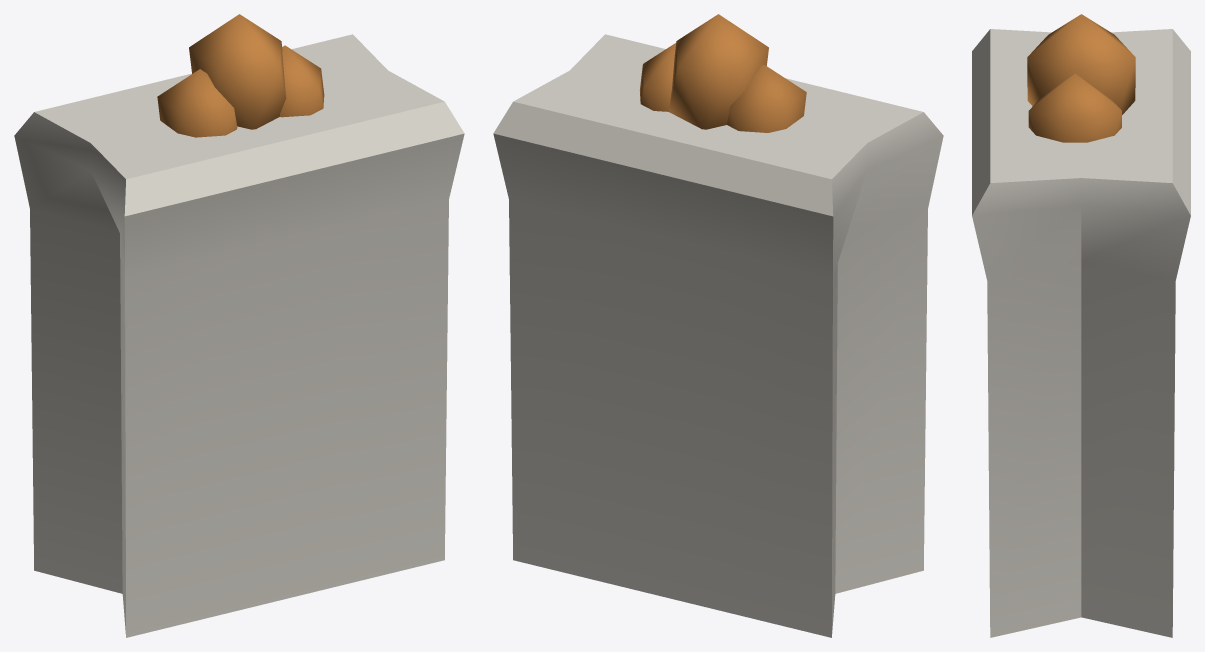
File: pastryBag.glb
3 renders of one model, left to right at view 1: azimuth 30°, elevation 25°; view 2: azimuth 150°, elevation 25°; view 3: azimuth 270°, elevation 25°, orthographic.
Visible parts, largest first — view 1: pastryBag; view 2: pastryBag; view 3: pastryBag.
Boxes of the visible parts, left/top/right/bottom form: pastryBag: left=14, top=14, right=464, bottom=637; pastryBag: left=493, top=14, right=943, bottom=637; pastryBag: left=972, top=14, right=1190, bottom=637.
Size of the model in its own units: 0.128 by 0.1984 by 0.072.
